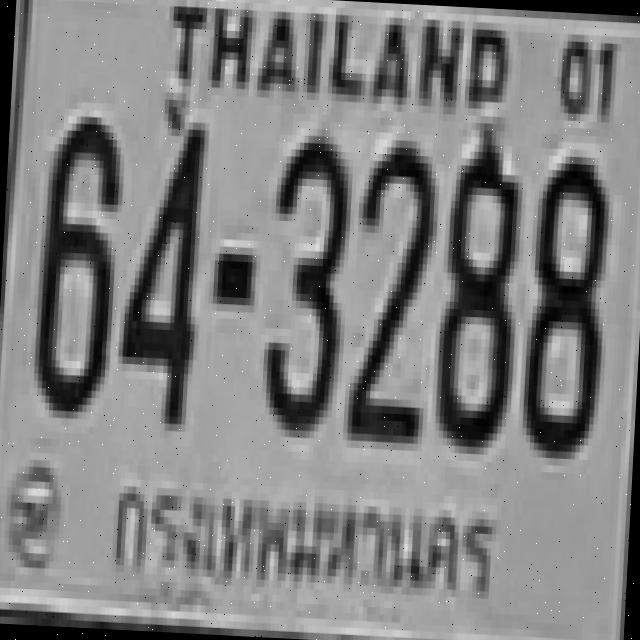2: (345, 134, 436, 440)
3: (256, 126, 351, 432)
4: (115, 112, 206, 425)
6: (28, 108, 123, 414)
8: (431, 132, 522, 445), (517, 147, 608, 453)
Bangkok: (108, 464, 509, 617)
